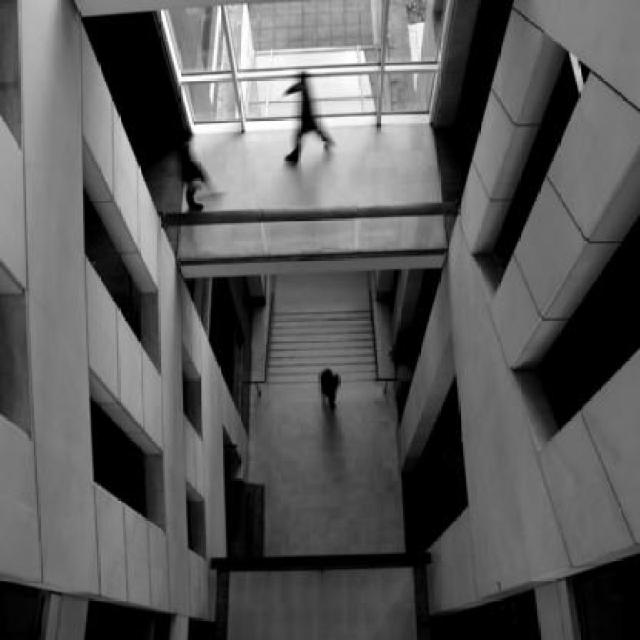stair: (264, 314, 378, 384)
